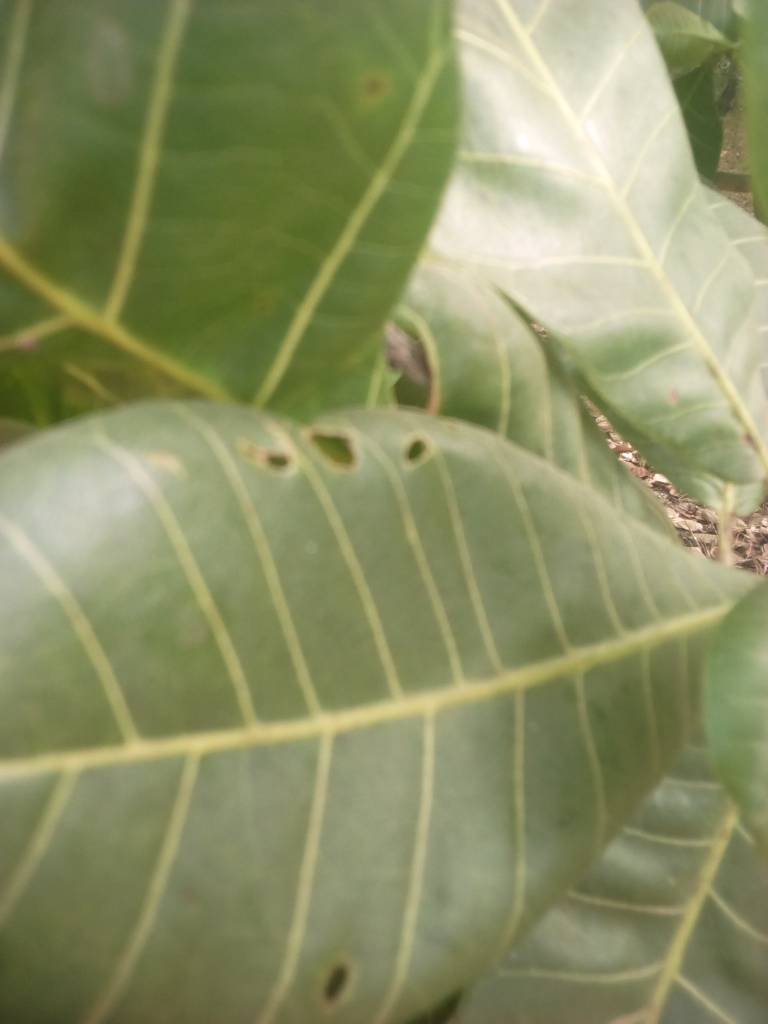Anoplocnemis curvipes: (166, 403, 505, 521)
